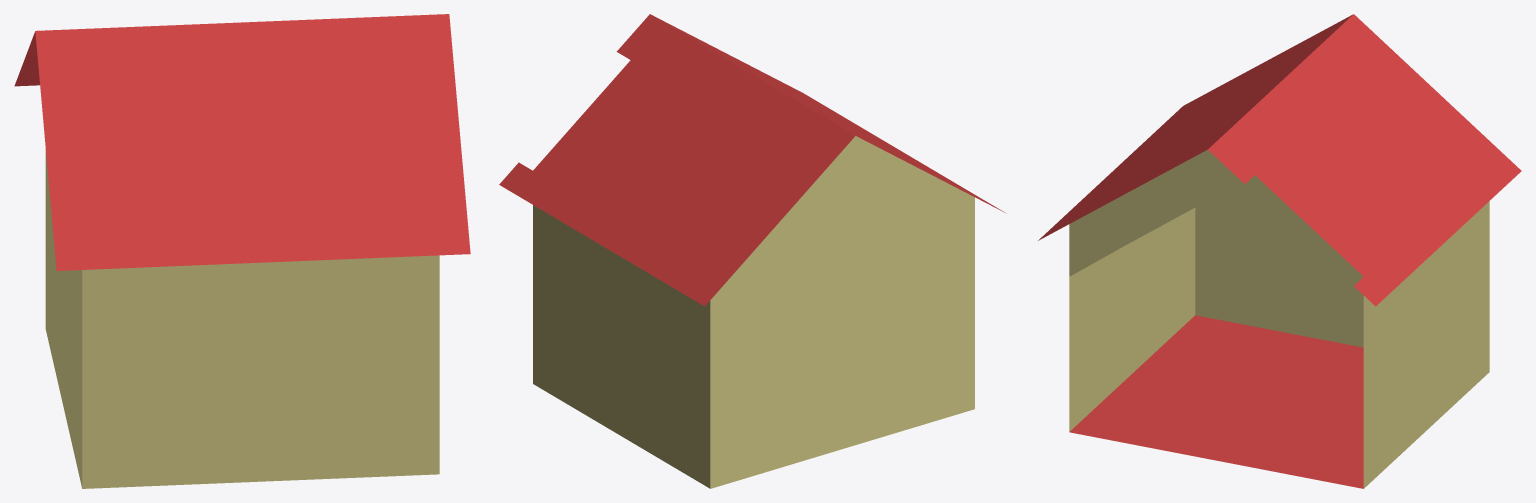
3 renders of one model, left to right at view 1: azimuth 30°, elevation 25°; view 2: azimuth 150°, elevation 25°; view 3: azimuth 270°, elevation 25°, orthographic. The views are drawn at different scales.
Bounding box in the file's own units: 19.64 × 20.04 × 14.62.
